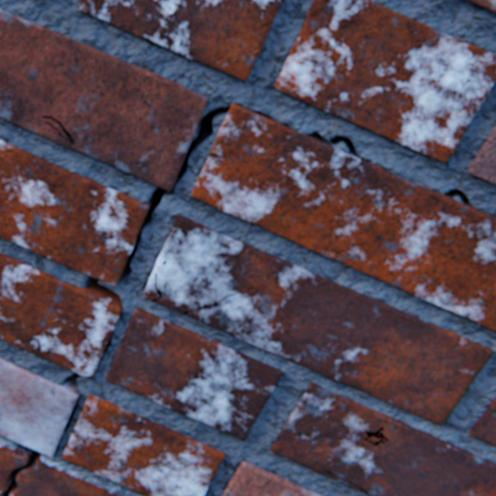brick: (143, 214, 491, 424), (191, 104, 495, 331), (0, 9, 208, 190), (274, 0, 495, 162), (271, 381, 495, 495), (106, 306, 282, 439), (0, 139, 149, 285), (63, 393, 224, 495), (77, 0, 282, 80), (0, 252, 122, 377), (0, 357, 79, 456), (221, 460, 322, 495), (466, 124, 495, 185), (468, 394, 495, 445), (463, 0, 495, 14), (366, 435, 379, 441)
broken_brick: (9, 457, 122, 495), (0, 445, 29, 495)
crack: (120, 187, 173, 278), (173, 106, 229, 185), (1, 442, 41, 495), (184, 284, 254, 313), (305, 132, 361, 159), (323, 468, 367, 492), (85, 276, 122, 304), (41, 115, 74, 143), (442, 188, 472, 207), (63, 397, 79, 431), (364, 426, 387, 443), (63, 372, 82, 391), (152, 273, 161, 300), (103, 331, 113, 352), (253, 111, 272, 119), (209, 154, 222, 157)
